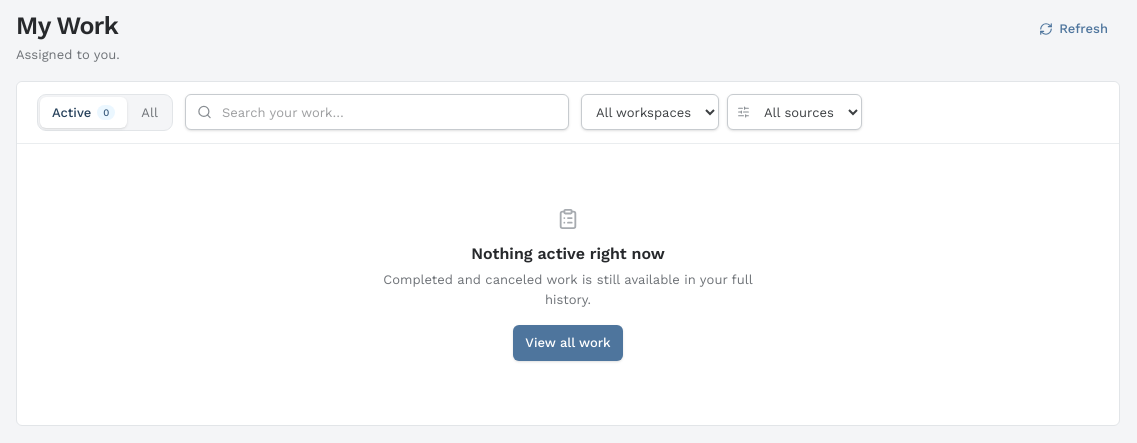
it: MyWorkPage › shows an actionable Active empty state while historical work is available
Expected: the element with test id "my-work-empty-active" is shown, x1=383 y1=208 x2=753 y2=361
Click the button "View all work" at (568, 343), box x1=513 y1=325 x2=623 y2=361
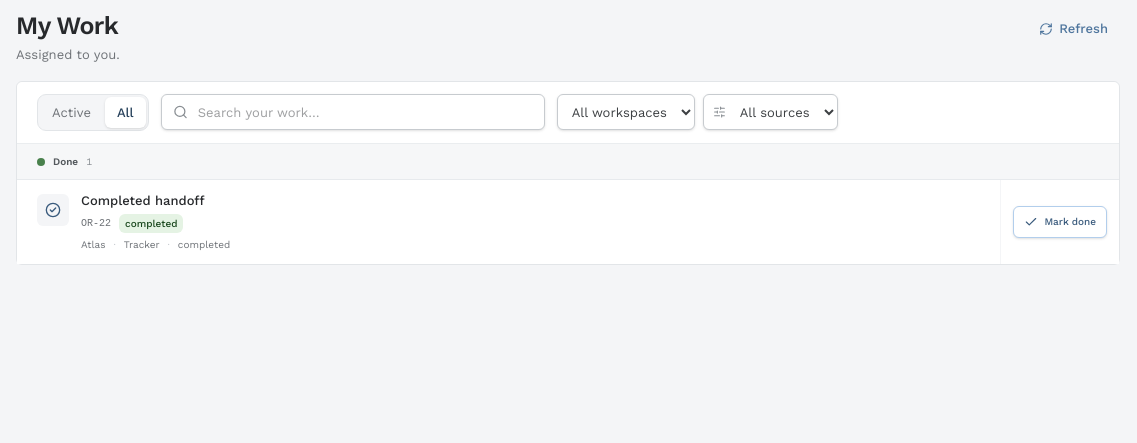
Now the text "Completed handoff" is shown, box x1=81 y1=193 x2=205 y2=208
